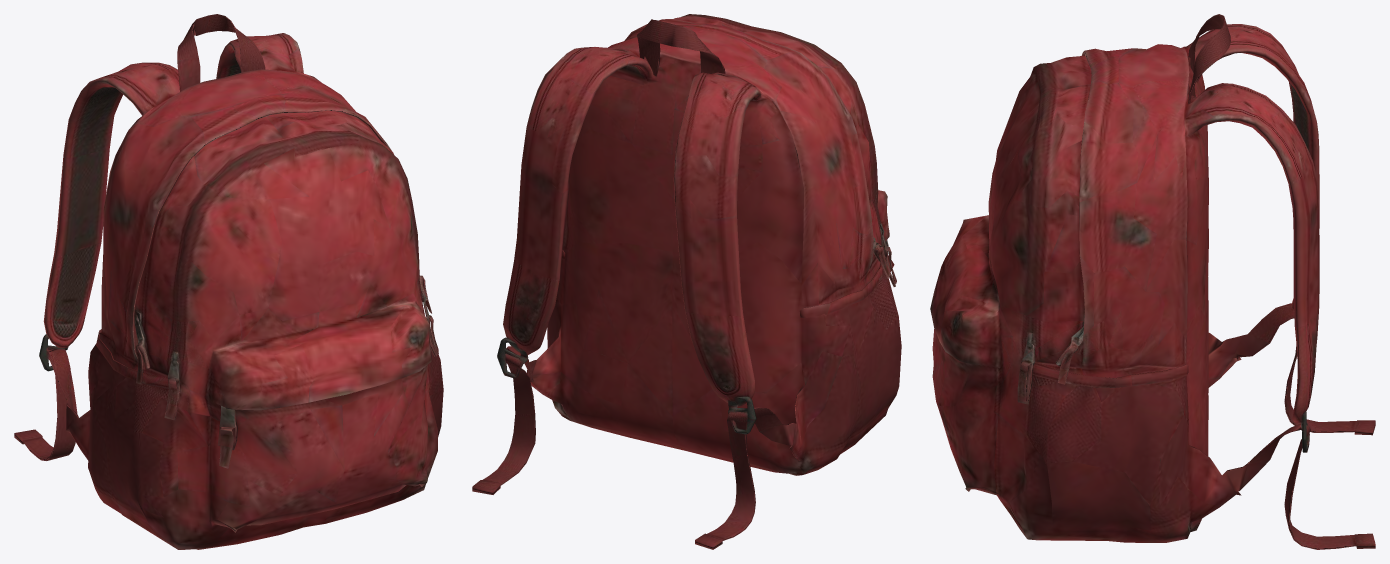
Rendered from prop_backpack.glb.
3 renders of one model, left to right at view 1: azimuth 30°, elevation 25°; view 2: azimuth 150°, elevation 25°; view 3: azimuth 270°, elevation 25°, orthographic. The views are drawn at different scales.
Bounding box in the file's own units: 0.6782 × 0.9517 × 0.8223.
1 material, 1 textured.
